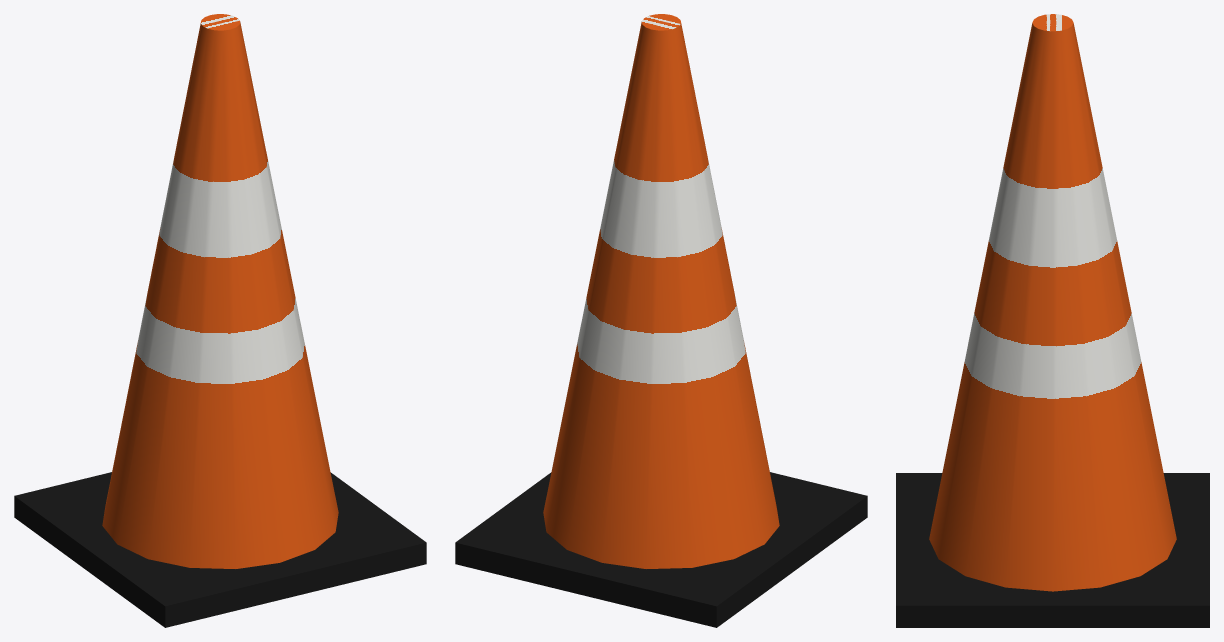
The model's file is traffic_cone.glb.
3 renders of one model, left to right at view 1: azimuth 30°, elevation 25°; view 2: azimuth 150°, elevation 25°; view 3: azimuth 270°, elevation 25°, orthographic. The views are drawn at different scales.
Visible parts, largest first — view 1: TrafficCone; view 2: TrafficCone; view 3: TrafficCone.
Part boxes in pixels (<box>): TrafficCone: <box>14,14,426,627</box>; TrafficCone: <box>455,14,867,627</box>; TrafficCone: <box>896,14,1209,627</box>.
Size of the model in its own units: 0.38 by 0.72 by 0.38.
2 materials, 1 textured.
